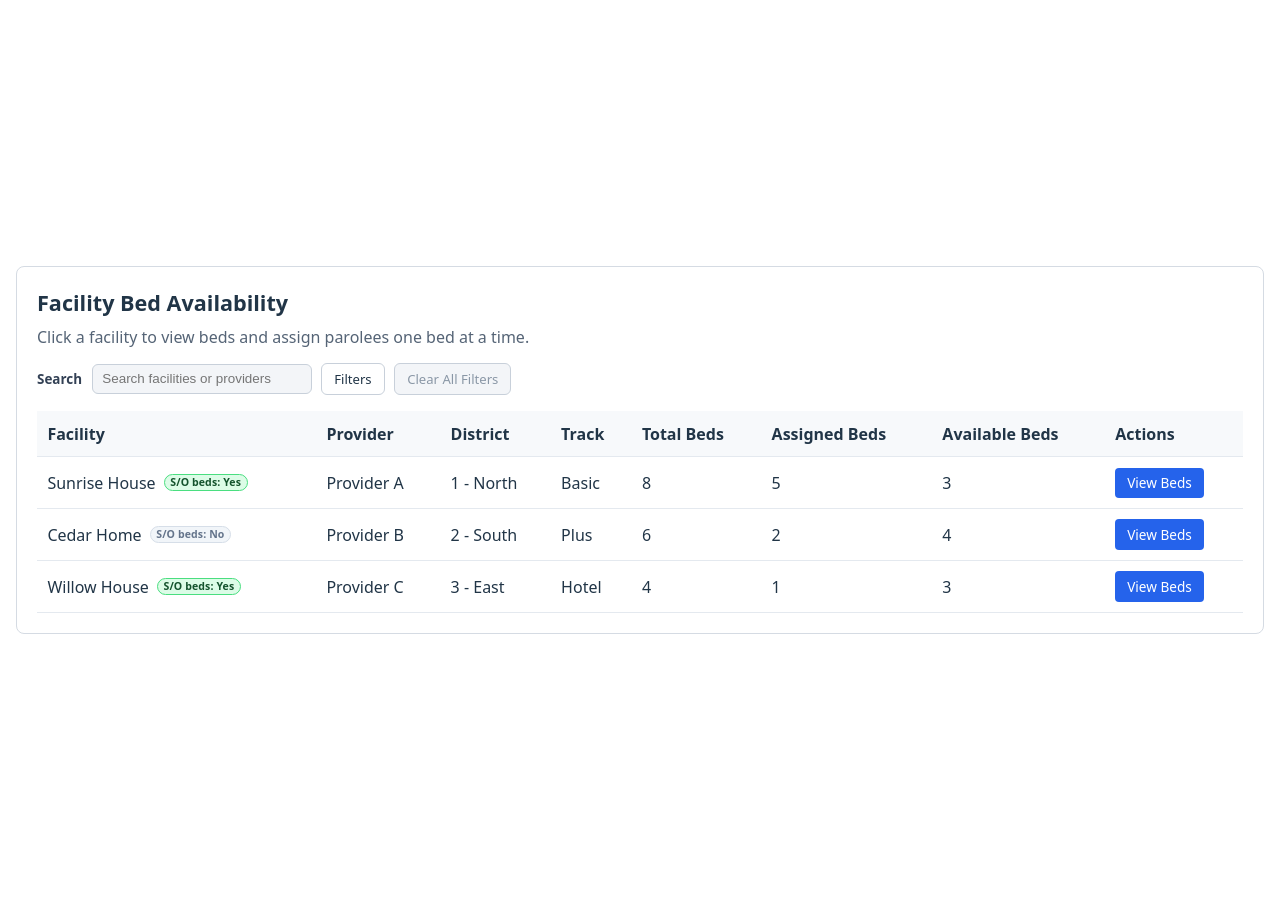
Scenario: MainDash › filters facilities by sex offender bed coverage
The width and height of the screenshot is (1280, 900).
Expected: the text "Sunrise House" is shown, [47,471,156,495]
Expected: the text "Cedar Home" is shown, [47,523,142,547]
Click the button "Filters" at (353, 379), box [321,362,385,395]
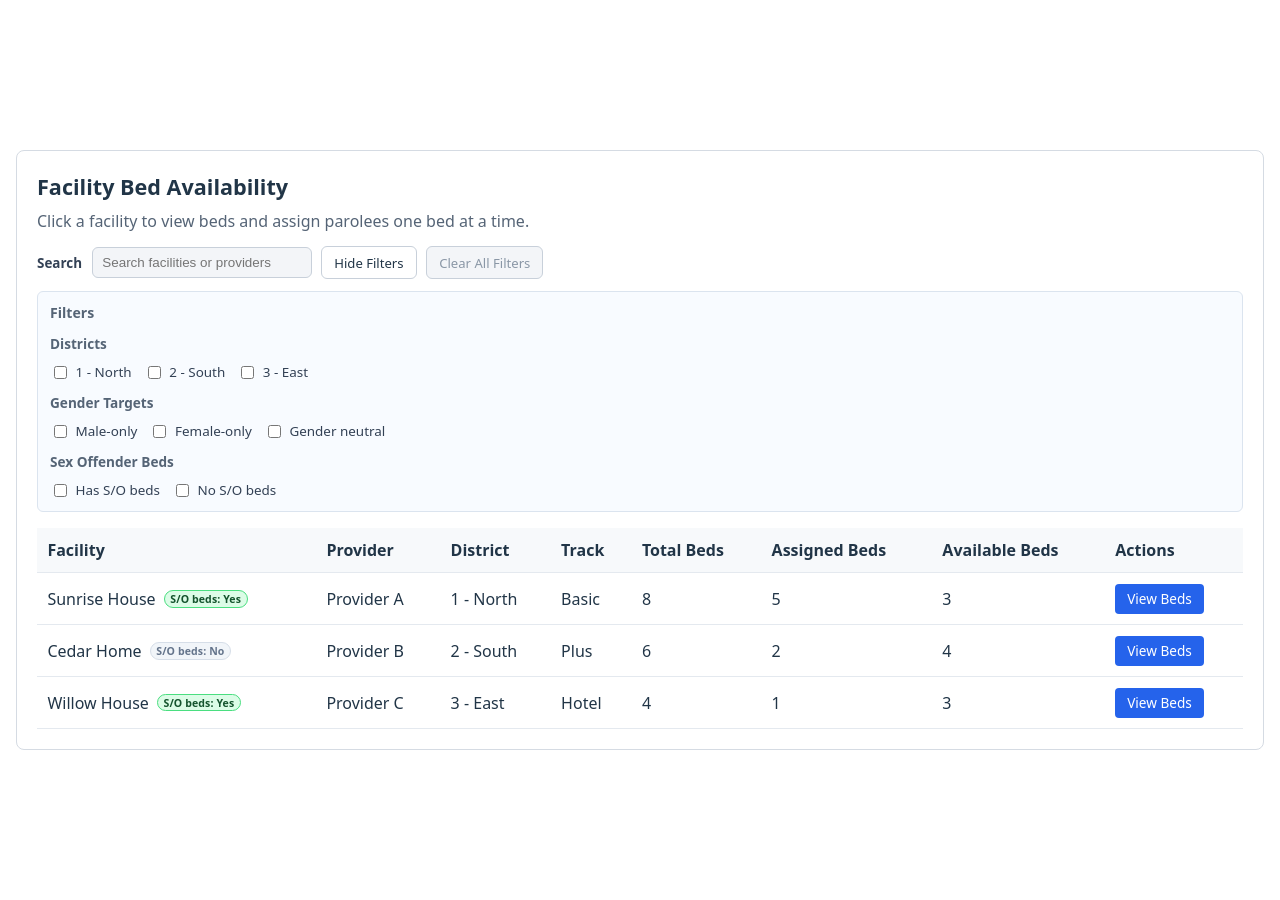
Click the checkbox labelled "Has S/O beds" at (60, 490), box [54,484,67,497]
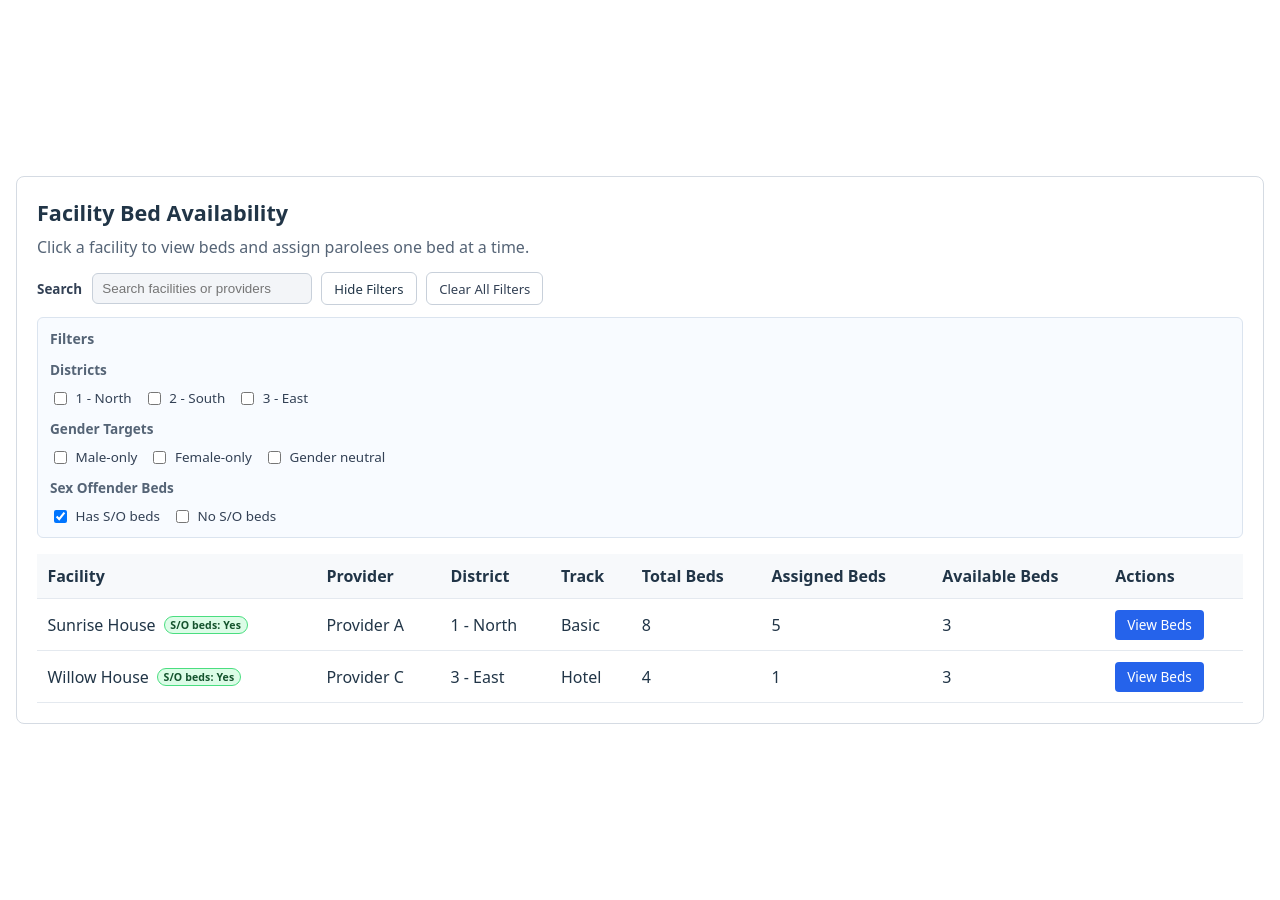
Result: the checkbox labelled "Has S/O beds" is checked at [54,510,67,523]
Result: the checkbox labelled "No S/O beds" is not checked
Result: the text "Cedar Home" is gone
Click the checkbox labelled "No S/O beds" at (182, 516), box [176,510,189,523]
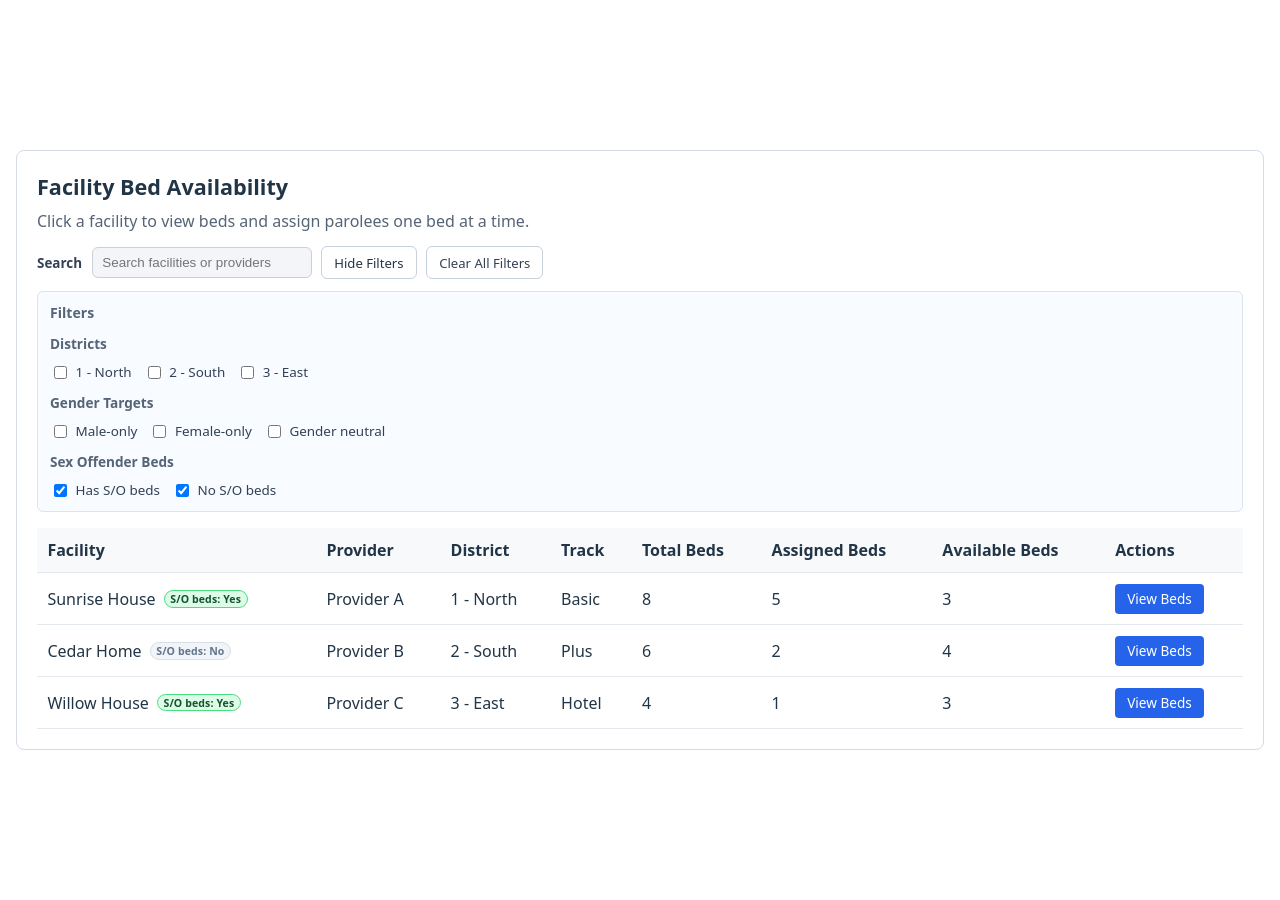
Result: the checkbox labelled "Has S/O beds" is checked at [54,484,67,497]
Result: the checkbox labelled "No S/O beds" is checked at [176,484,189,497]
Result: the text "Cedar Home" is shown at [47,639,142,663]
